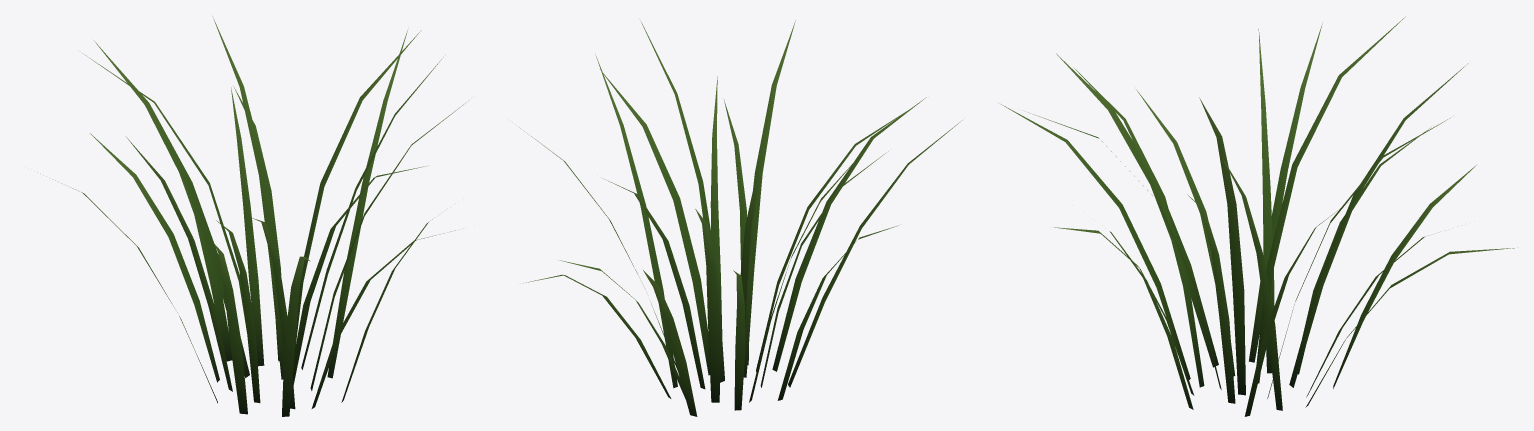
The model's file is b612_veg_VL_Grass_WetBank_A_0.glb.
3 views of the same model, side by side, from view 1: azimuth 30°, elevation 25°; view 2: azimuth 150°, elevation 25°; view 3: azimuth 270°, elevation 25° (orthographic). The views are drawn at different scales.
Parts seen in each view (by area): view 1: Grass_WetBank_A_LOD0; view 2: Grass_WetBank_A_LOD0; view 3: Grass_WetBank_A_LOD0.
Part boxes in pixels (x1=…): Grass_WetBank_A_LOD0: x1=37, y1=16, x2=466, y2=416; Grass_WetBank_A_LOD0: x1=519, y1=20, x2=962, y2=416; Grass_WetBank_A_LOD0: x1=1001, y1=16, x2=1514, y2=416.
Size of the model in its own units: 0.4141 by 0.3381 by 0.4527.
